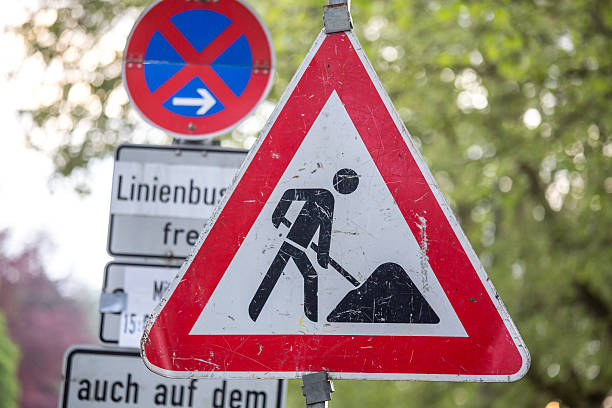yol_calismasi_levha: (141, 16, 533, 381)
